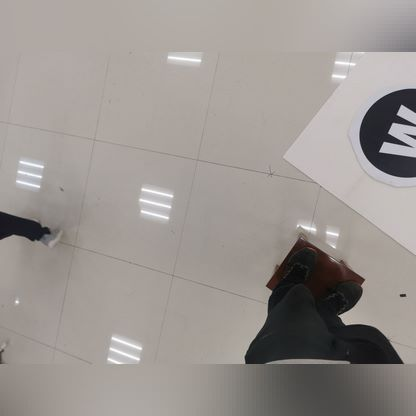W: (350, 78, 416, 192)
